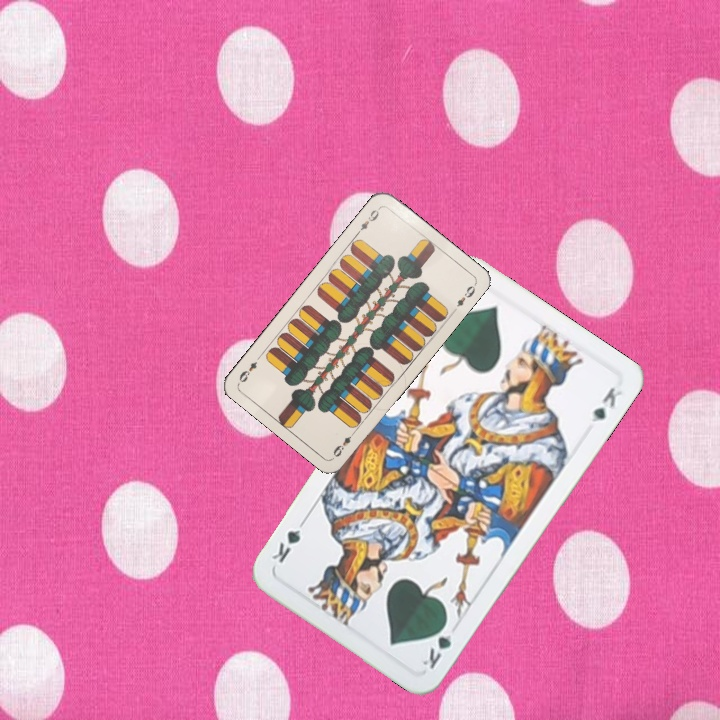E9: (353, 203, 383, 237), (329, 426, 359, 460)
GK: (418, 616, 454, 672)
